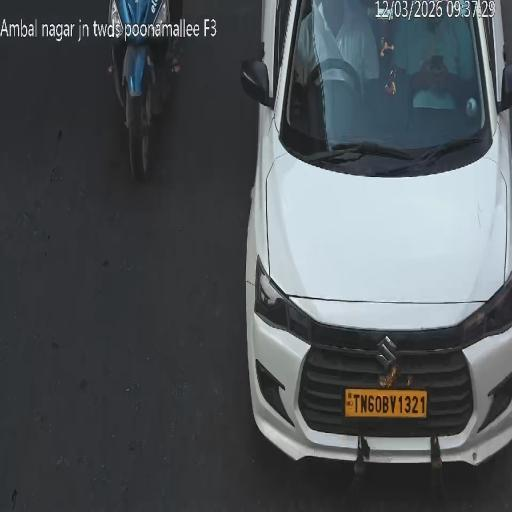person_with_seatbelt: (311, 0, 348, 78)
person_without_seatbelt: (405, 14, 467, 104)
